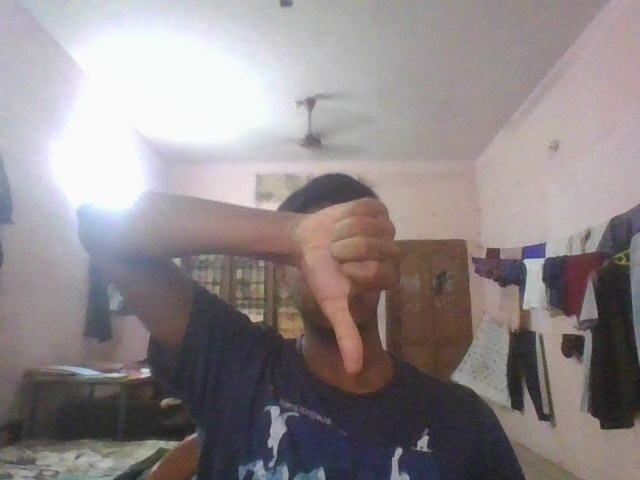thumbsdown: (273, 183, 404, 376)
